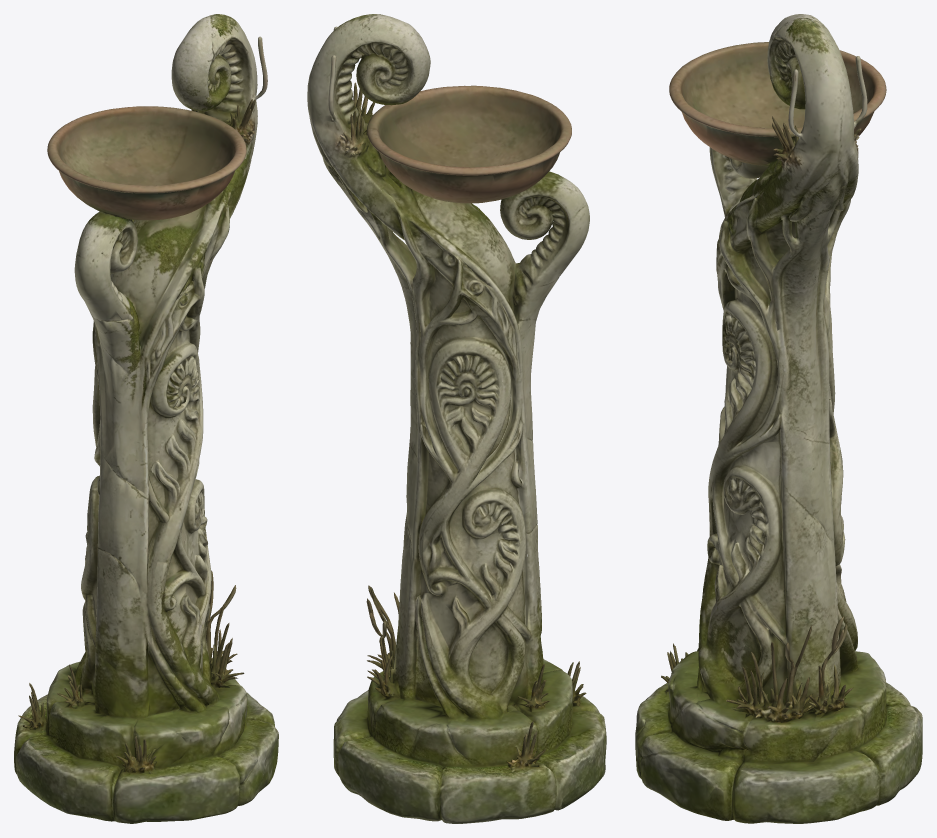
Rendered from marsh_waymarker.glb.
The picture shows the model from 3 angles, left to right: view 1: azimuth 30°, elevation 25°; view 2: azimuth 150°, elevation 25°; view 3: azimuth 270°, elevation 25°; orthographic projection. The views are drawn at different scales.
Parts seen in each view (by area): view 1: tripo_node_19081fed-7c8e-4d55-a8b0-4807e2ca606e; view 2: tripo_node_19081fed-7c8e-4d55-a8b0-4807e2ca606e; view 3: tripo_node_19081fed-7c8e-4d55-a8b0-4807e2ca606e.
Boxes of the visible parts, left/top/right/bottom form: tripo_node_19081fed-7c8e-4d55-a8b0-4807e2ca606e: left=14, top=14, right=278, bottom=823; tripo_node_19081fed-7c8e-4d55-a8b0-4807e2ca606e: left=307, top=14, right=606, bottom=823; tripo_node_19081fed-7c8e-4d55-a8b0-4807e2ca606e: left=635, top=14, right=922, bottom=823.
Bounding box in the file's own units: 0.3473 × 0.9796 × 0.3229.
Materials: 1 (1 with a texture image).
